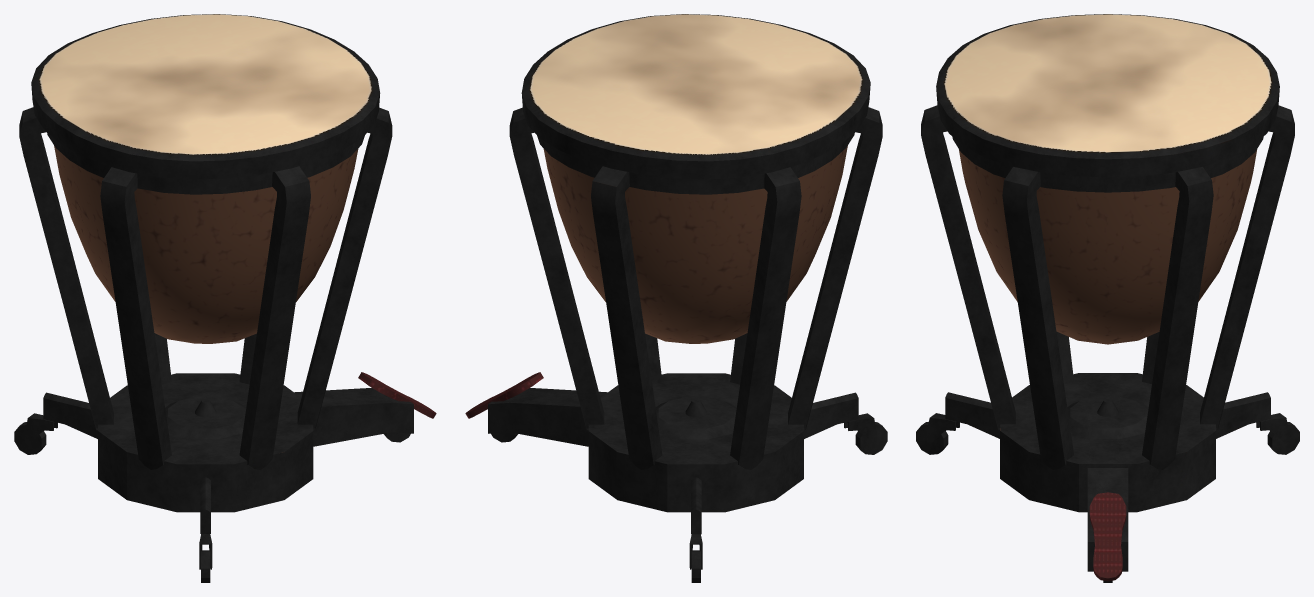
File: timpani.glb
The picture shows the model from 3 angles, left to right: view 1: azimuth 30°, elevation 25°; view 2: azimuth 150°, elevation 25°; view 3: azimuth 270°, elevation 25°; orthographic projection.
Parts seen in each view (by area): view 1: Cube; view 2: Cube; view 3: Cube.
Part boxes in pixels (box(x1,y1,x2,y2)): Cube: box(14, 14, 436, 582); Cube: box(465, 14, 887, 582); Cube: box(916, 14, 1299, 582).
Size of the model in its own units: 0.8705 by 0.9091 by 0.7661.
Materials: 1 (1 with a texture image).
